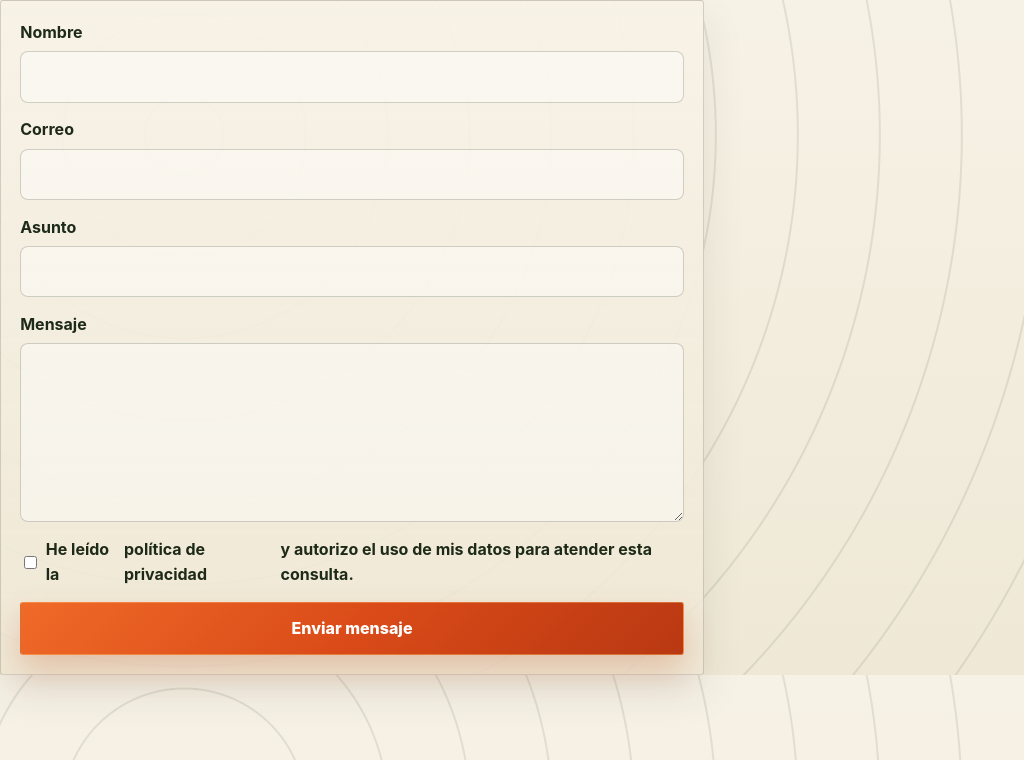
it: interactive components › validates the contact form
Click the button "Enviar mensaje".
click(352, 629)  # box top-left (20, 602), bottom-right (684, 655)
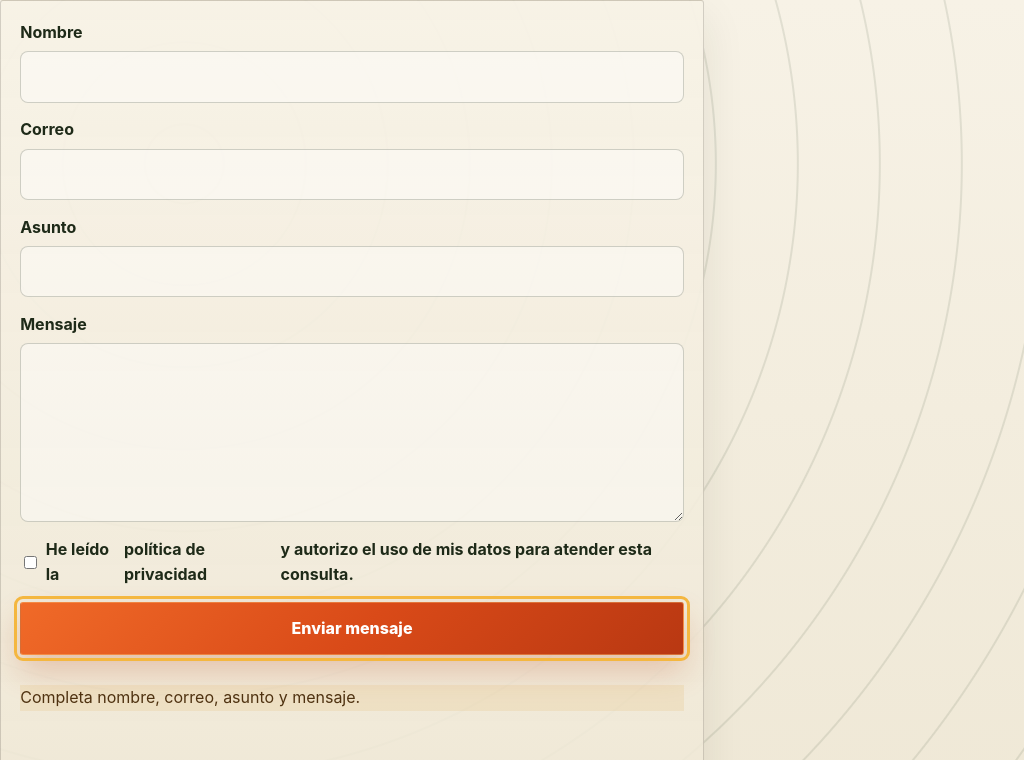
Expected: the message shows "Completa", top-left (20, 687), bottom-right (360, 707)
